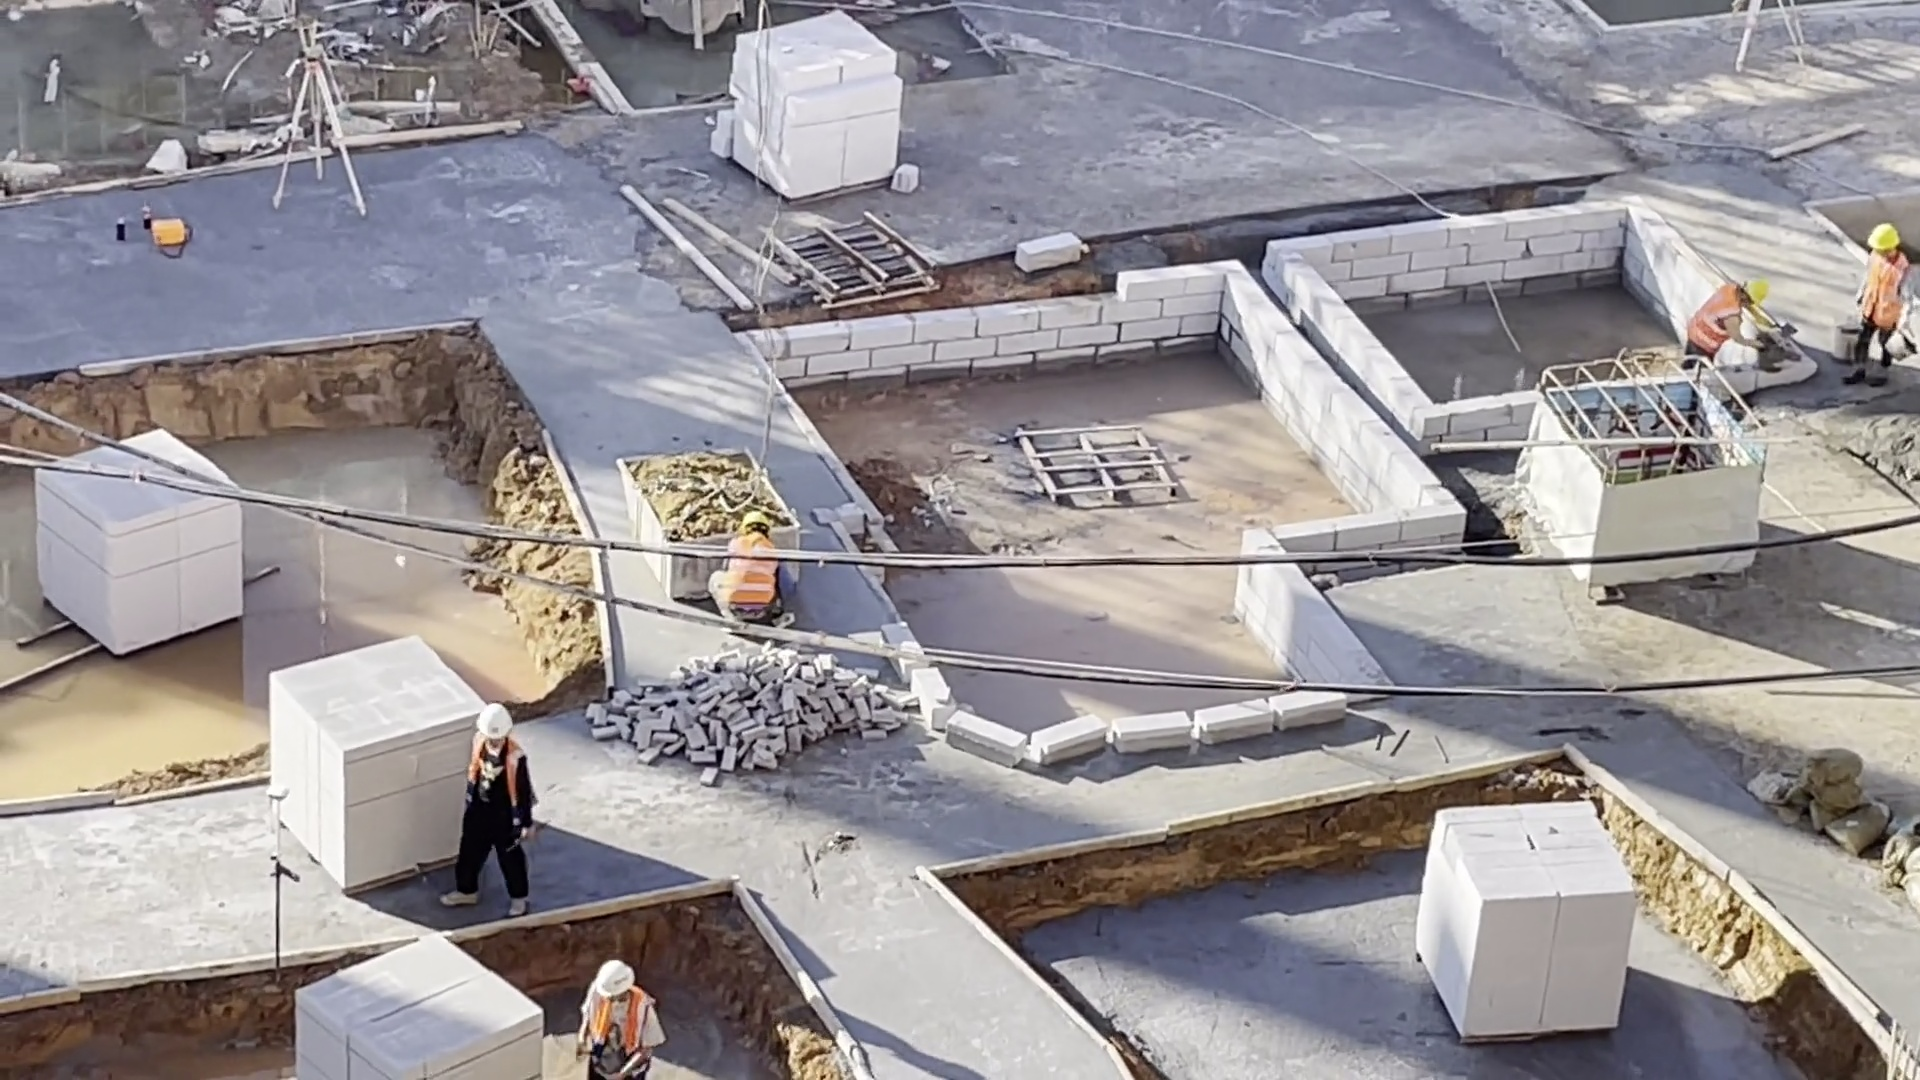brick: (1408, 795, 1642, 1043), (258, 630, 452, 902), (261, 934, 548, 1080), (712, 8, 902, 195), (27, 504, 245, 658)
helmet: (467, 700, 516, 737), (592, 959, 637, 998), (1862, 223, 1903, 251), (1743, 276, 1772, 306), (740, 511, 773, 531)
hopper: (617, 448, 717, 546)
person: (441, 702, 544, 919), (1841, 222, 1915, 387), (571, 956, 669, 1080), (700, 512, 797, 629), (1681, 275, 1775, 376)
vest: (461, 737, 519, 826), (1683, 283, 1742, 355), (584, 998, 649, 1058), (1859, 253, 1903, 332), (719, 558, 779, 606)
